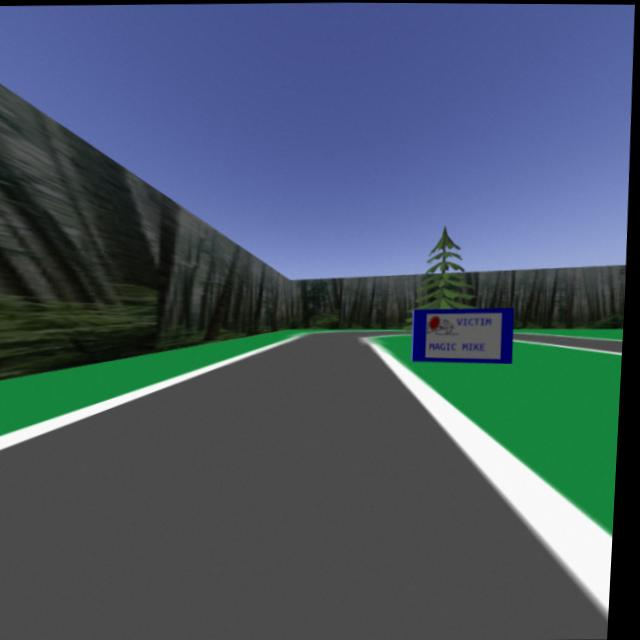clueboard: (403, 300, 523, 373)
